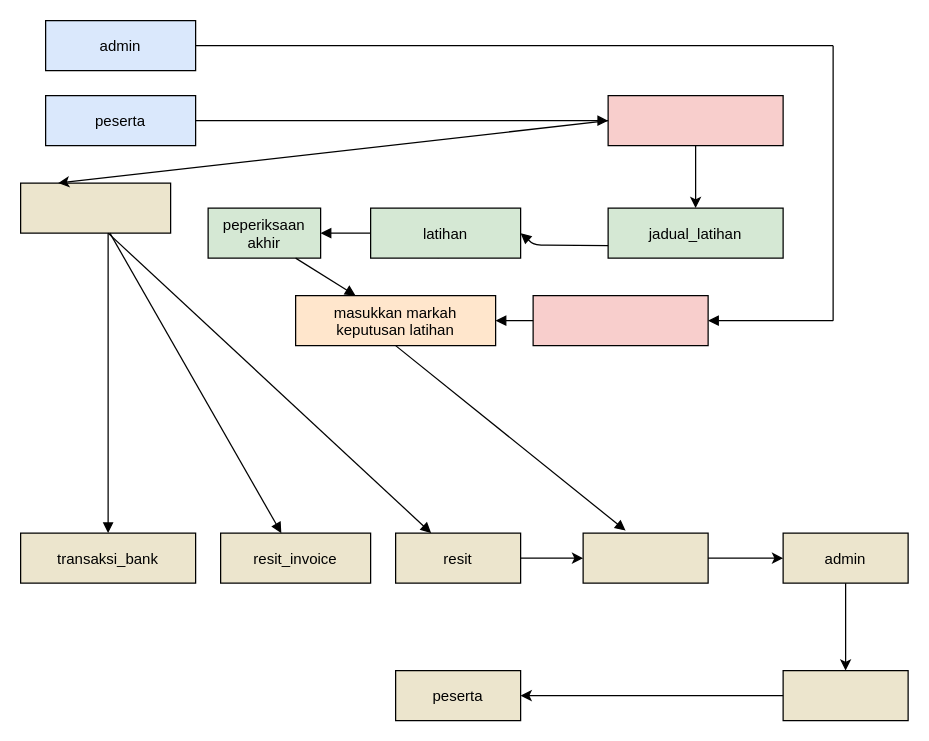
Some shapes in this 929 by 741 pixel diagram are drawn without their labels. Here are the shapes that lost their labels. From the top down, the box of each, then its label:
(607, 94, 783, 146): login_peserta
(19, 182, 171, 233): pembayaran
(532, 294, 708, 346): Senarai Peserta
(582, 532, 708, 583): Finances
(782, 669, 908, 721): sijil latihan
